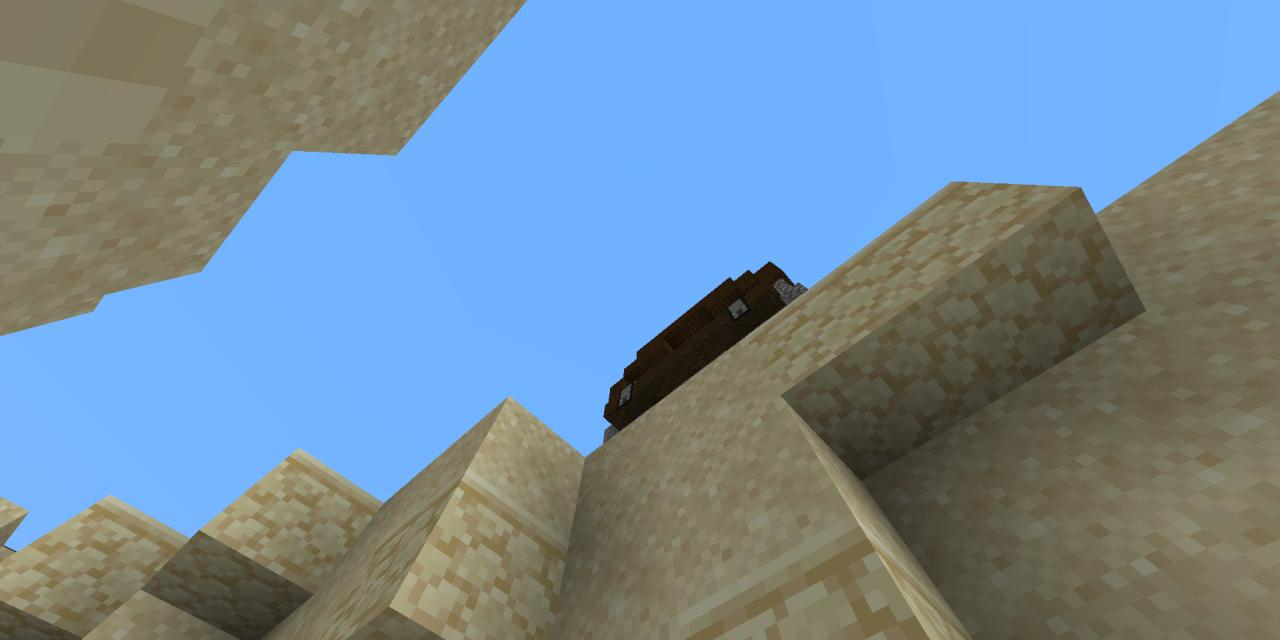pillager outpost: (588, 242, 827, 459)
